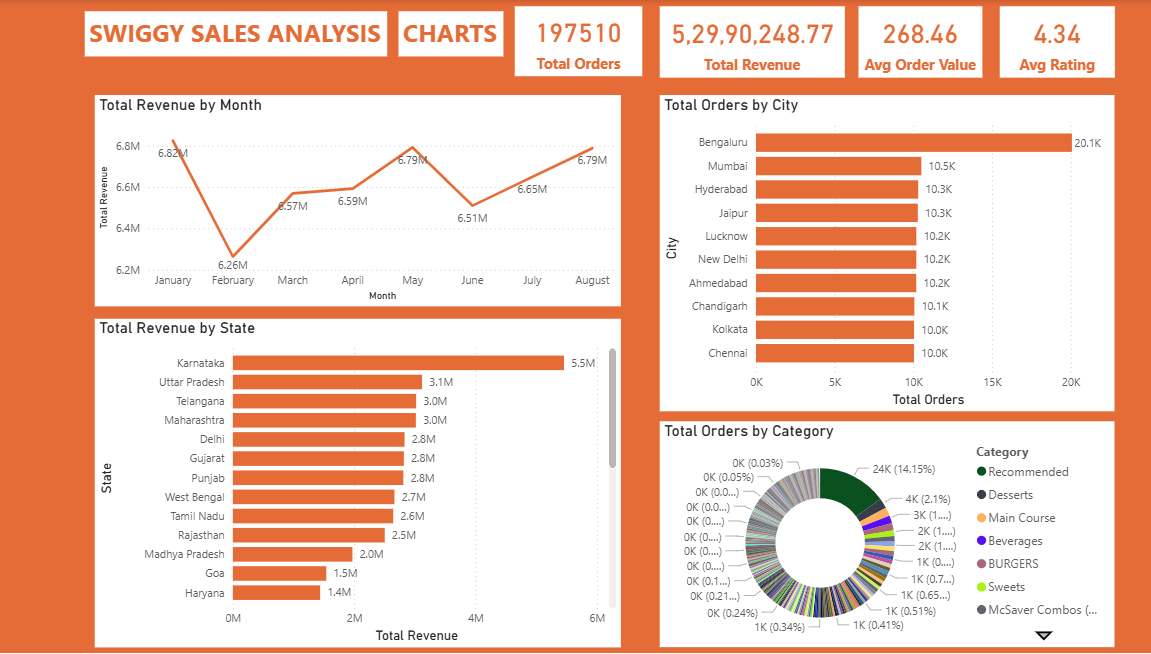

The page's visual inventory and layout, read from the dashboard file:
{"tool":"powerbi","page":{"name":"Charts","canvas":[1280,720],"ordinal":0},"visuals":[{"type":"card","fields":{"Values":["Swiggy.Total Orders"]},"box":[569.5,6.9,140,76.8],"z":0},{"type":"card","fields":{"Values":["Swiggy.Avg Rating"]},"box":[1101.9,6.9,126.2,78.2],"z":1000},{"type":"card","fields":{"Values":["Swiggy.Avg Order Value"]},"box":[946.8,6.9,135.8,78.2],"z":2000},{"type":"card","fields":{"Values":["Swiggy.Total Revenue"]},"box":[728.6,6.9,203.1,78.2],"z":3000},{"type":"textbox","box":[97.4,12.3,332.1,49.4],"z":4000},{"type":"textbox","box":[441.9,12.3,115.3,49.4],"z":5000},{"type":"lineChart","fields":{"Category":["Swiggy.Order Date.Variation.Date Hierarchy.Month"],"Y":["Swiggy.Total Revenue"]},"box":[108.4,104.3,577.7,231.9],"z":6000},{"type":"clusteredBarChart","fields":{"Category":["Swiggy.State"],"Y":["Swiggy.Total Revenue"]},"box":[108.4,349.9,577.7,360.9],"z":7000},{"type":"donutChart","fields":{"Category":["Swiggy.Category"],"Y":["Swiggy.Total Orders"]},"box":[728.6,462.4,499.5,248.4],"z":8000},{"type":"clusteredBarChart","fields":{"Category":["Swiggy.City"],"Y":["Swiggy.Total Orders"]},"box":[728.6,104.3,499.5,347.2],"z":9000}]}

Visuals, with their boxes in screenshot pixels (x1, y1, x2, y2), scaled from the page's 1280x720 canvas onto the 1151x654 screenshot:
card - Swiggy.Total Orders: left=512, top=6, right=638, bottom=76
card - Swiggy.Avg Rating: left=991, top=6, right=1104, bottom=77
card - Swiggy.Avg Order Value: left=851, top=6, right=973, bottom=77
card - Swiggy.Total Revenue: left=655, top=6, right=838, bottom=77
textbox: left=88, top=11, right=386, bottom=56
textbox: left=397, top=11, right=501, bottom=56
lineChart - Swiggy.Order Date.Variation.Date Hierarchy.Month x Swiggy.Total Revenue: left=97, top=95, right=617, bottom=305
clusteredBarChart - Swiggy.State x Swiggy.Total Revenue: left=97, top=318, right=617, bottom=646
donutChart - Swiggy.Category x Swiggy.Total Orders: left=655, top=420, right=1104, bottom=646
clusteredBarChart - Swiggy.City x Swiggy.Total Orders: left=655, top=95, right=1104, bottom=410
